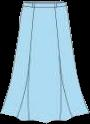Hemline: (0, 112, 89, 123)
Waistline: (22, 4, 66, 8), (23, 1, 66, 3)
